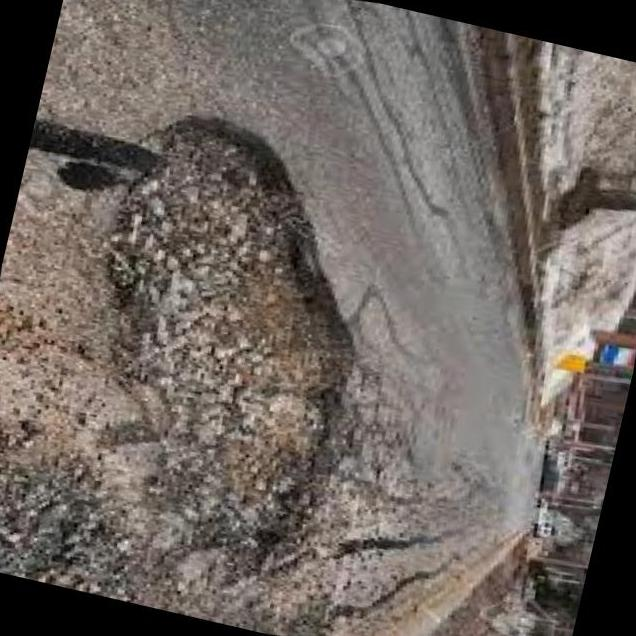pothole: (37, 84, 431, 601)
